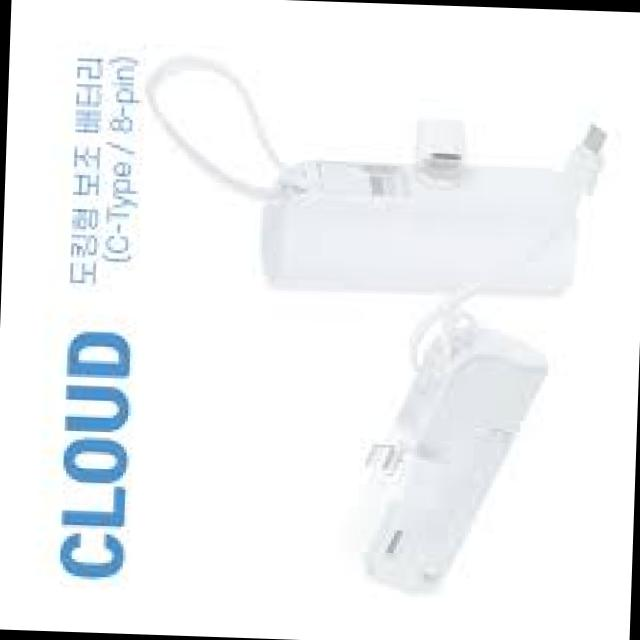portable-charger: (251, 111, 603, 305), (344, 316, 552, 603)
